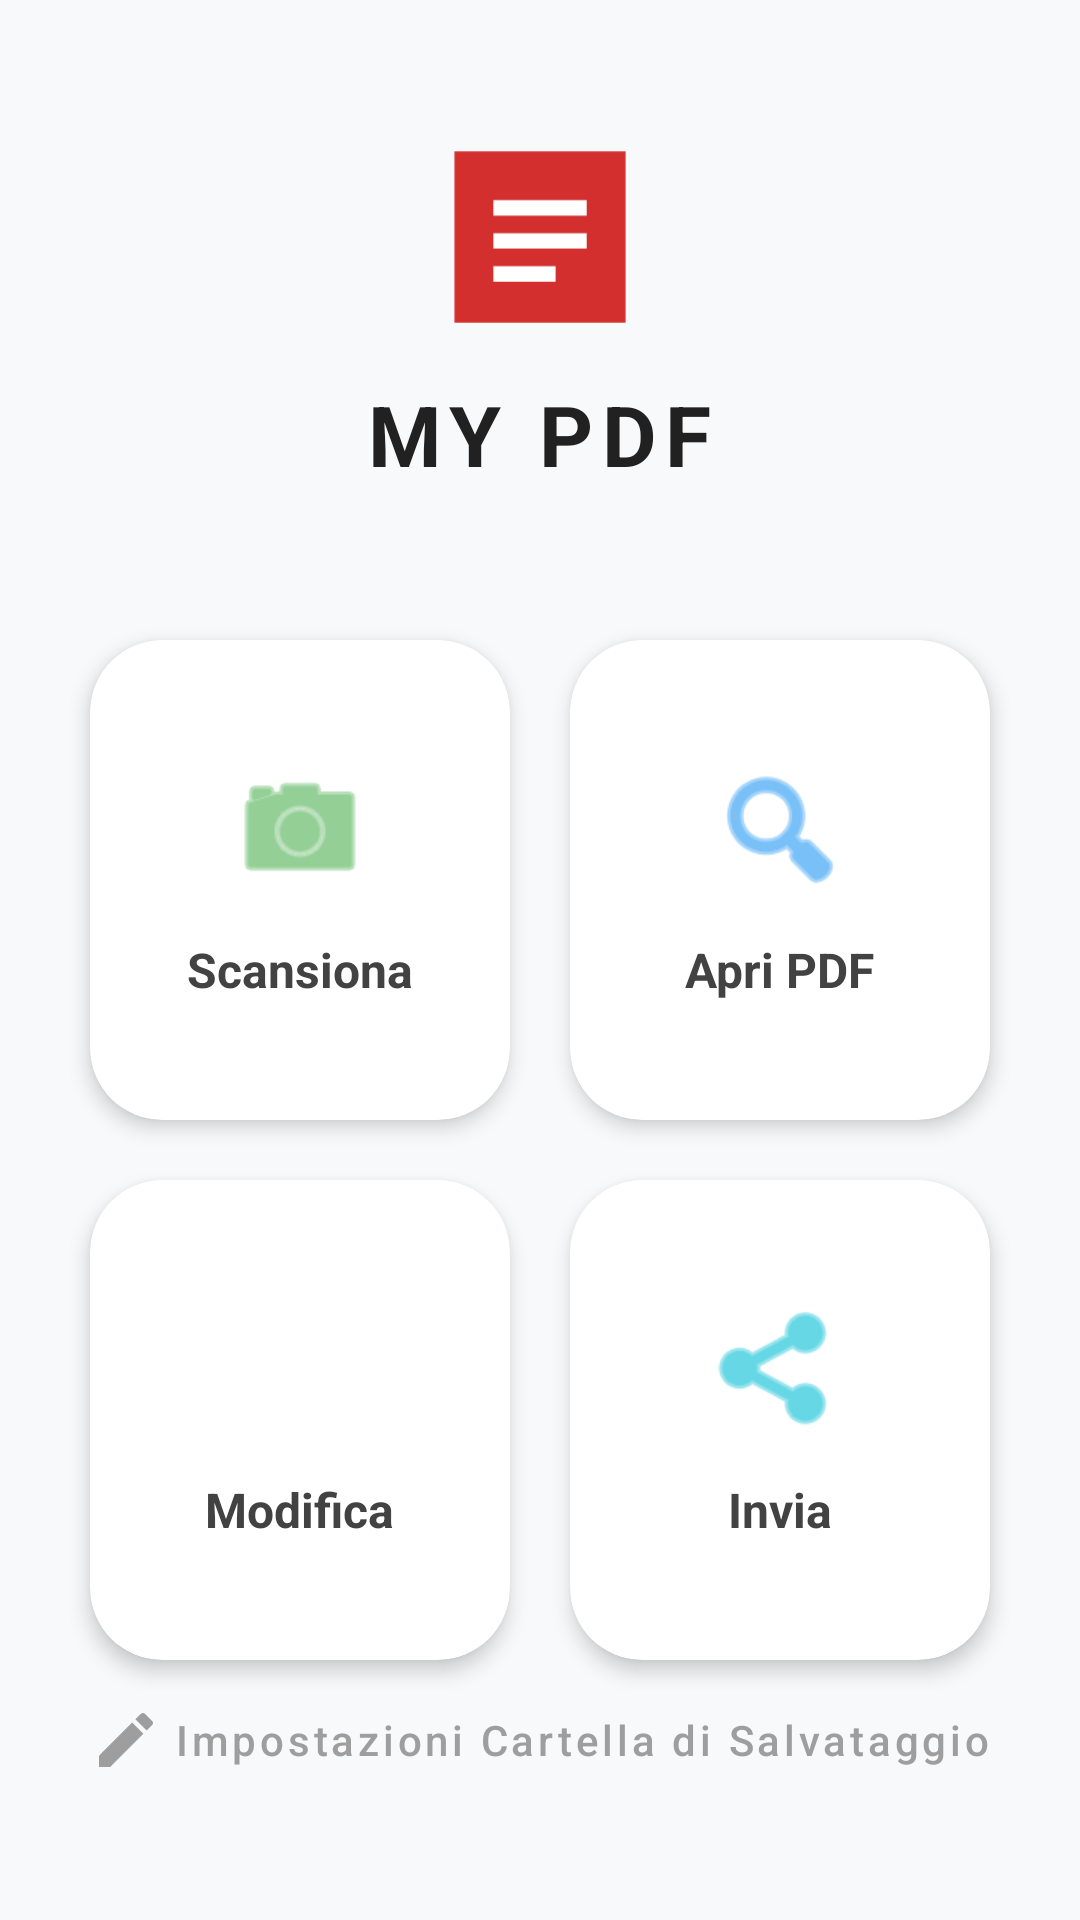

Screen size 1080*1920. Icon name, then its box in pixels as (x1=x1, y1=y1, x2=x2, y2=y2):
camera: (x1=244, y1=783, x2=355, y2=871)
search: (x1=727, y1=776, x2=833, y2=883)
share: (x1=718, y1=1312, x2=827, y2=1425)
